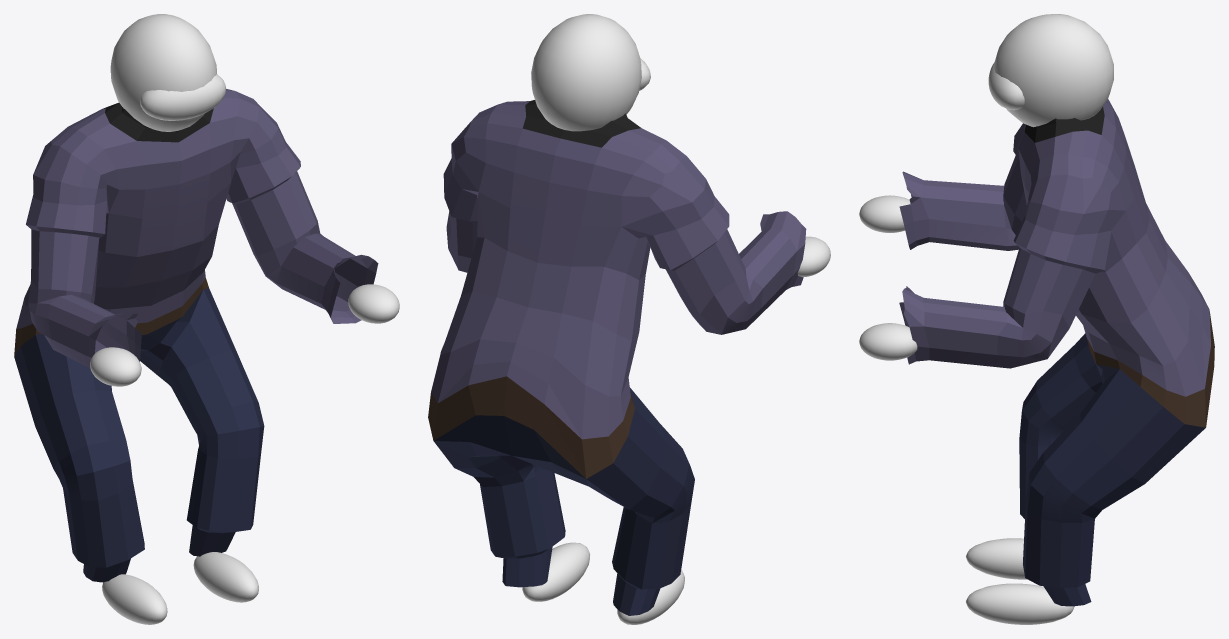
File: HelmetedRider.fbx
The picture shows the model from 3 angles, left to right: view 1: azimuth 30°, elevation 25°; view 2: azimuth 150°, elevation 25°; view 3: azimuth 270°, elevation 25°; orthographic projection. The views are drawn at different scales.
Visible parts, largest first — view 1: RiderBody, Helmet, ShoeL, Visor, ShoeR, GloveR, GloveL; view 2: RiderBody, Helmet, ShoeL, ShoeR, GloveR; view 3: RiderBody, Helmet, ShoeL, ShoeR, GloveL, GloveR, Visor.
Boxes of the visible parts, left/top/right/bottom form: RiderBody: left=14, top=89, right=378, bottom=582; Helmet: left=110, top=14, right=217, bottom=131; ShoeL: left=193, top=552, right=258, bottom=602; Visor: left=140, top=74, right=226, bottom=120; ShoeR: left=102, top=574, right=167, bottom=624; GloveR: left=90, top=347, right=141, bottom=386; GloveL: left=348, top=284, right=399, bottom=323; RiderBody: left=428, top=100, right=806, bottom=615; Helmet: left=531, top=14, right=641, bottom=131; ShoeL: left=522, top=542, right=589, bottom=601; ShoeR: left=617, top=570, right=684, bottom=624; GloveR: left=797, top=236, right=830, bottom=277; RiderBody: left=899, top=99, right=1214, bottom=606; Helmet: left=993, top=14, right=1113, bottom=127; ShoeL: left=966, top=583, right=1074, bottom=624; ShoeR: left=966, top=538, right=1027, bottom=579; GloveL: left=859, top=323, right=917, bottom=360; GloveR: left=859, top=195, right=910, bottom=232; Visor: left=988, top=62, right=1024, bottom=110.
Bounding box in the file's own units: 72.8 × 133 × 73.77.
